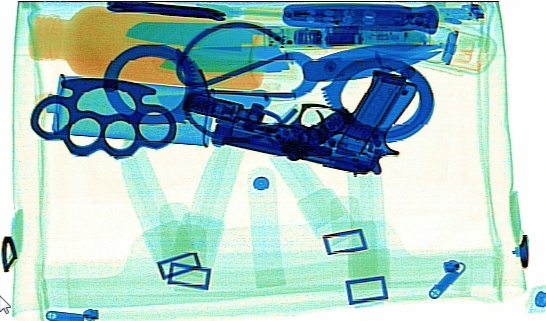handcuffs: (101, 44, 437, 151)
knife: (123, 17, 351, 51), (153, 43, 320, 74), (152, 85, 273, 119)
scissors: (173, 20, 444, 142)
zippooil: (45, 72, 214, 148)
